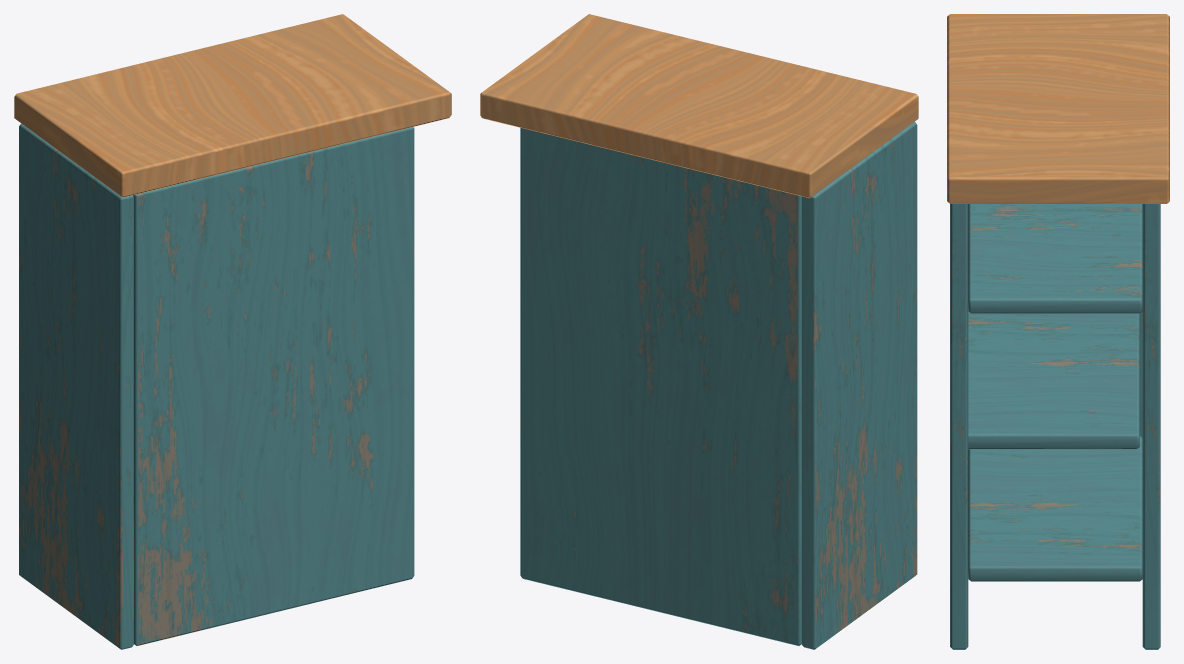
Rendered from blue-kitchen5.obj.
3 views of the same model, side by side, from view 1: azimuth 30°, elevation 25°; view 2: azimuth 150°, elevation 25°; view 3: azimuth 270°, elevation 25° (orthographic). The views are drawn at different scales.
Visible parts, largest first — view 1: blue_kitchen5:Cabinet_Shelf_CFBXASC046006; view 2: blue_kitchen5:Cabinet_Shelf_CFBXASC046006; view 3: blue_kitchen5:Cabinet_Shelf_CFBXASC046006.
Part boxes in pixels (x1=…): blue_kitchen5:Cabinet_Shelf_CFBXASC046006: x1=14, y1=14, x2=451, y2=649; blue_kitchen5:Cabinet_Shelf_CFBXASC046006: x1=480, y1=14, x2=918, y2=649; blue_kitchen5:Cabinet_Shelf_CFBXASC046006: x1=947, y1=14, x2=1169, y2=649.
Size of the model in its own units: 86.63 by 120 by 49.31.
1 material, 1 textured.
